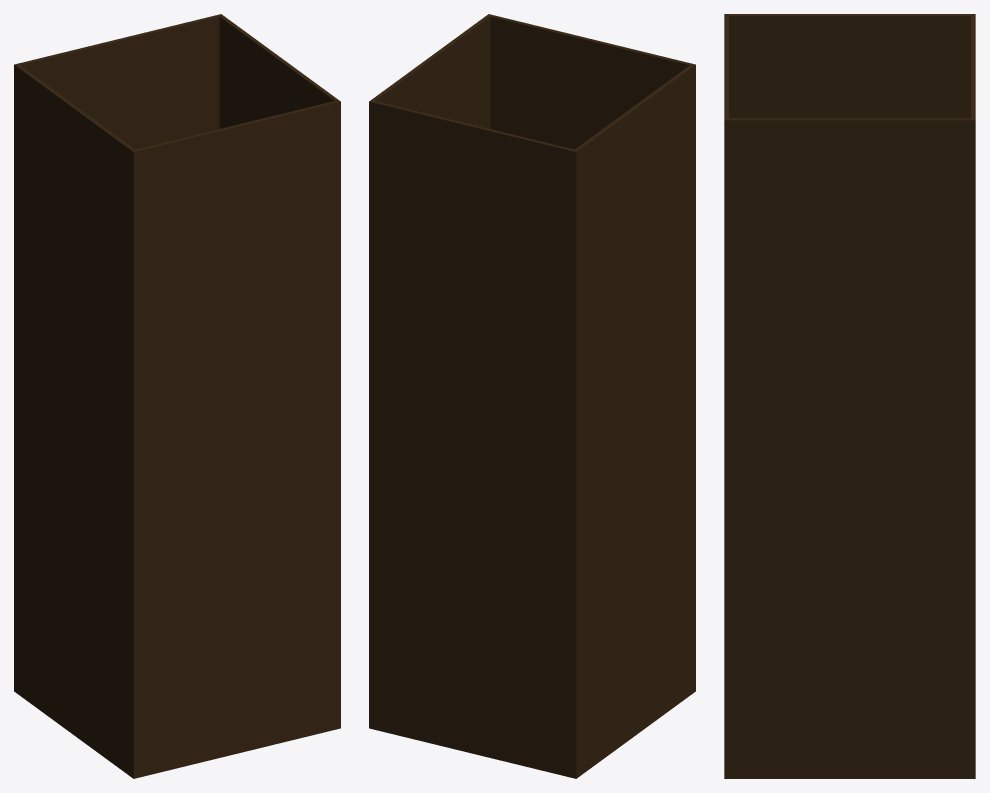
File: Coloumn formwork board sepearated.fbx
3 renders of one model, left to right at view 1: azimuth 30°, elevation 25°; view 2: azimuth 150°, elevation 25°; view 3: azimuth 270°, elevation 25°, orthographic. The views are drawn at different scales.
Parts seen in each view (by area): view 1: Marine board 2.4 by 1.2, Marine board 2.4 by 1.003, Marine board 2.4 by 1.001; view 2: Marine board 2.4 by 1.2, Marine board 2.4 by 1.003, Marine board 2.4 by 1.001; view 3: Marine board 2.4 by 1.001, Marine board 2.4 by 1.003, Marine board 2.4 by 1.2, Marine board 2.4 by 1.004.
Part boxes in pixels (x1,y1,x2,y2): Marine board 2.4 by 1.2: [20, 16, 336, 777]; Marine board 2.4 by 1.003: [14, 63, 137, 778]; Marine board 2.4 by 1.001: [218, 14, 340, 729]; Marine board 2.4 by 1.2: [373, 15, 691, 777]; Marine board 2.4 by 1.003: [572, 63, 695, 778]; Marine board 2.4 by 1.001: [369, 14, 491, 729]; Marine board 2.4 by 1.001: [724, 118, 975, 778]; Marine board 2.4 by 1.003: [724, 14, 975, 118]; Marine board 2.4 by 1.2: [724, 16, 728, 118]; Marine board 2.4 by 1.004: [971, 16, 975, 118].
Bounding box in the file's own units: 104 × 300 × 104.
